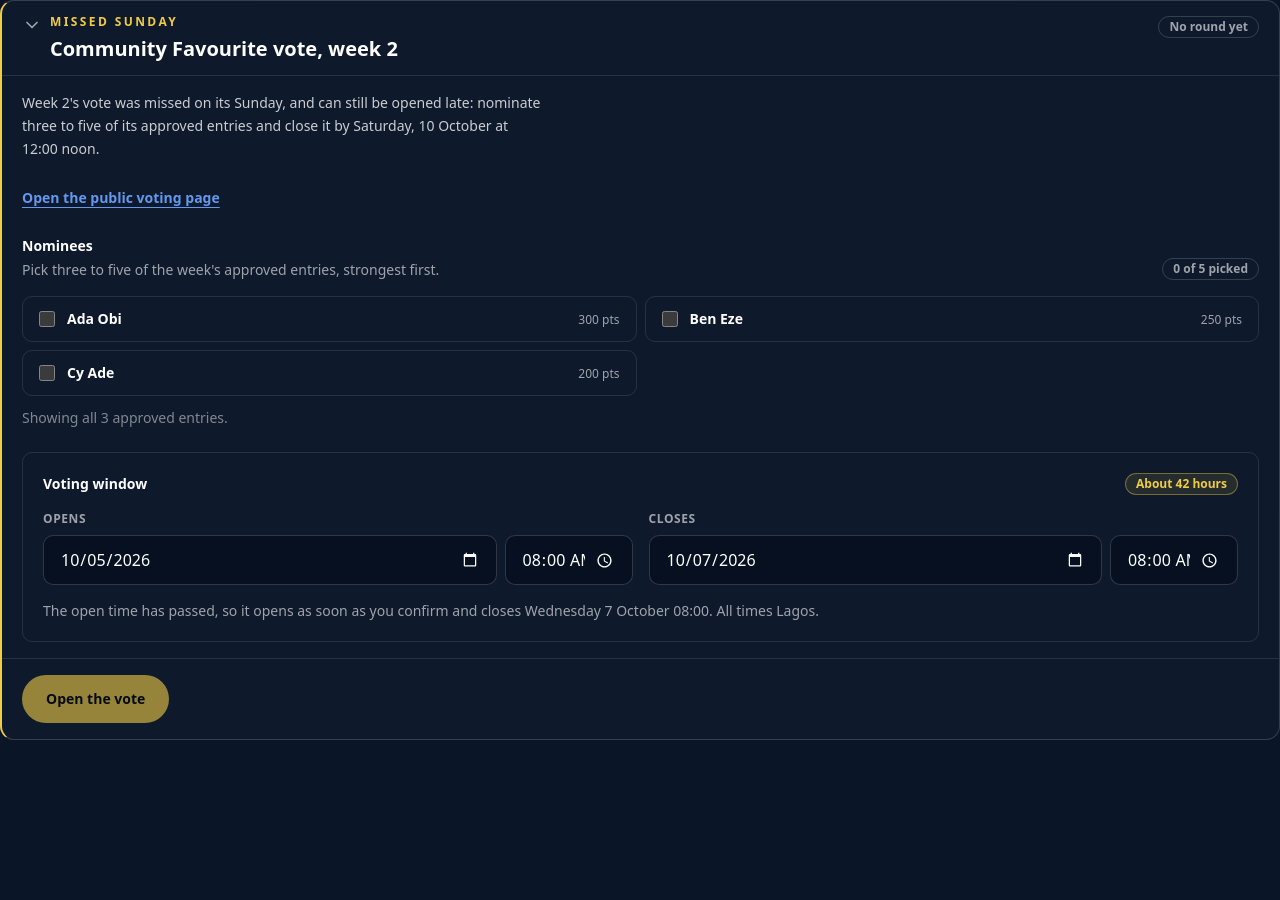
Test: a vote opened late, the Monday after › refuses a close after the next stage closes, before the round trip
Click the checkbox labelled "Ada Obi 300 pts".
click(47, 319)  # box [39,311,55,327]
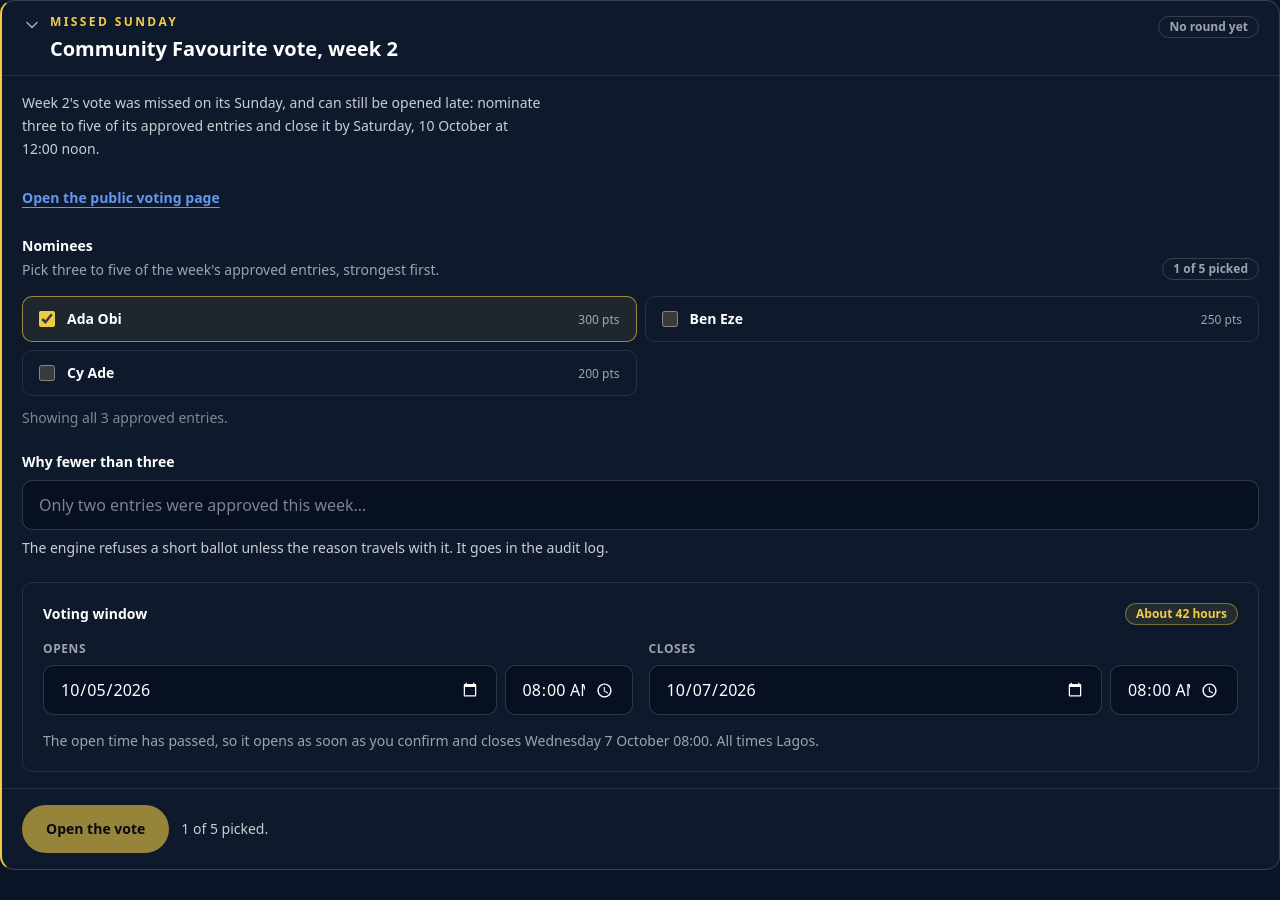
Click the checkbox labelled "Ben Eze 250 pts".
click(670, 319)  # box [662,311,678,327]
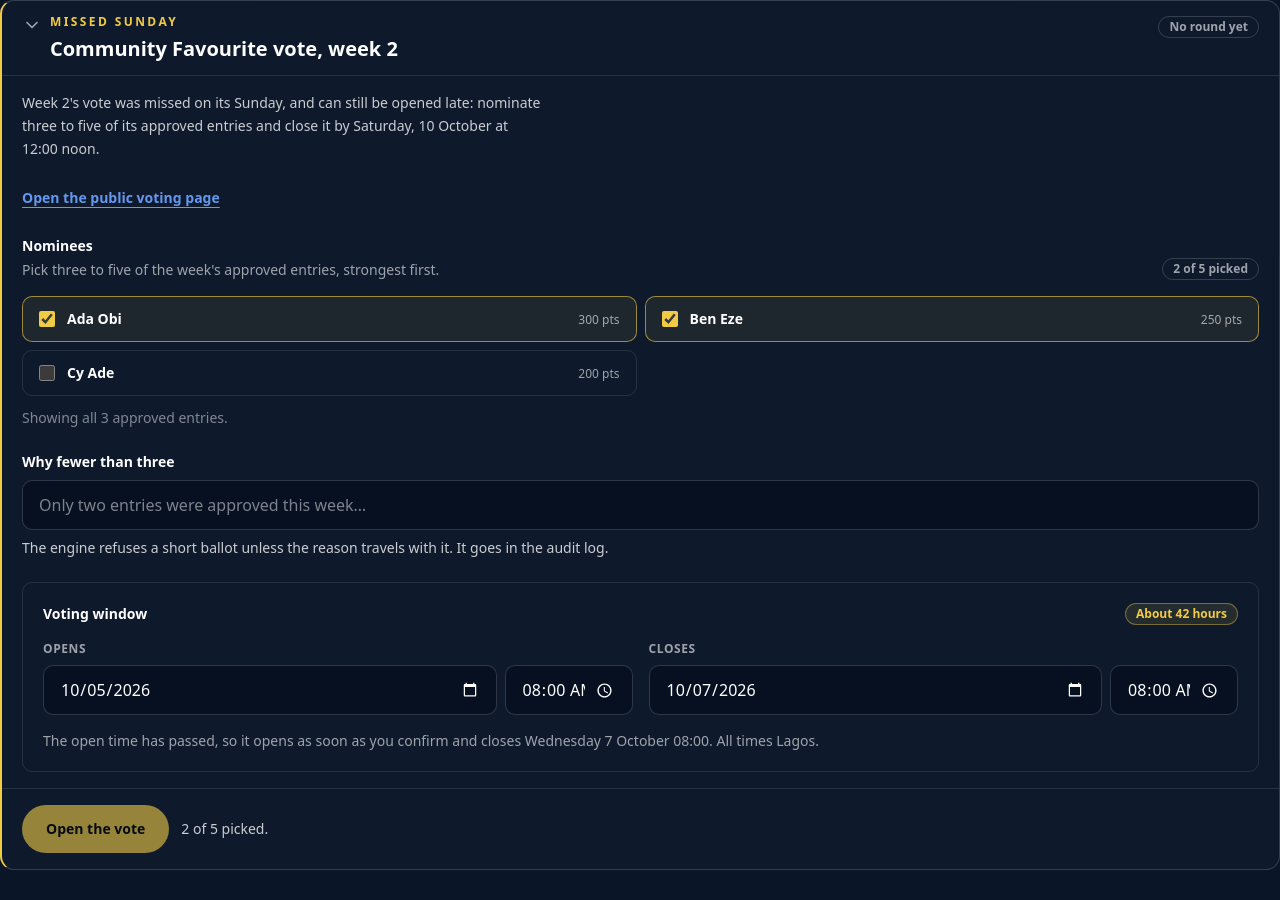
Click the checkbox labelled "Cy Ade 200 pts".
click(47, 373)  # box [39,365,55,381]
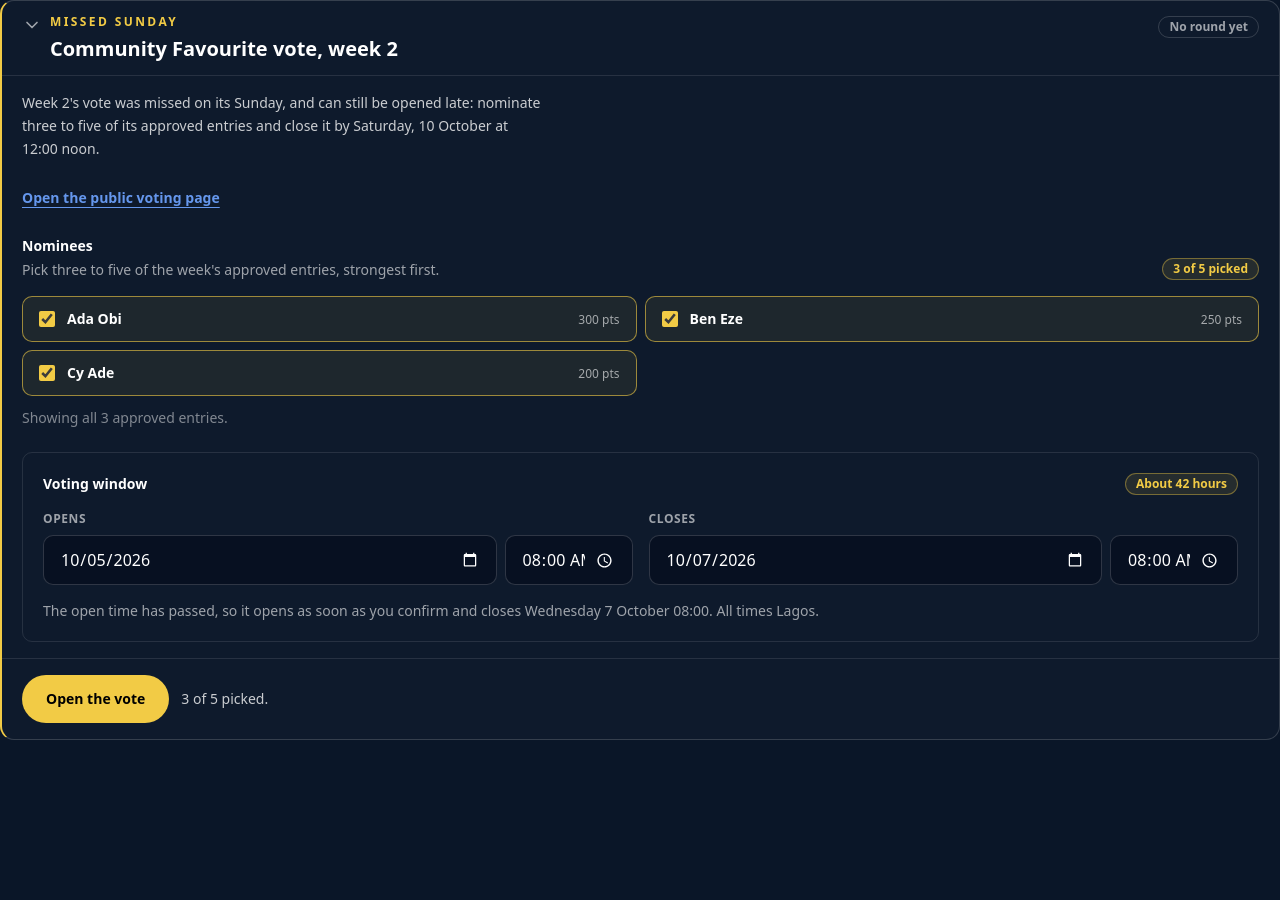
Type "2026-10-10" into the date field with id "closes-day".
click(875, 560); type("2026-10-10")  # box [648,535,1102,585]
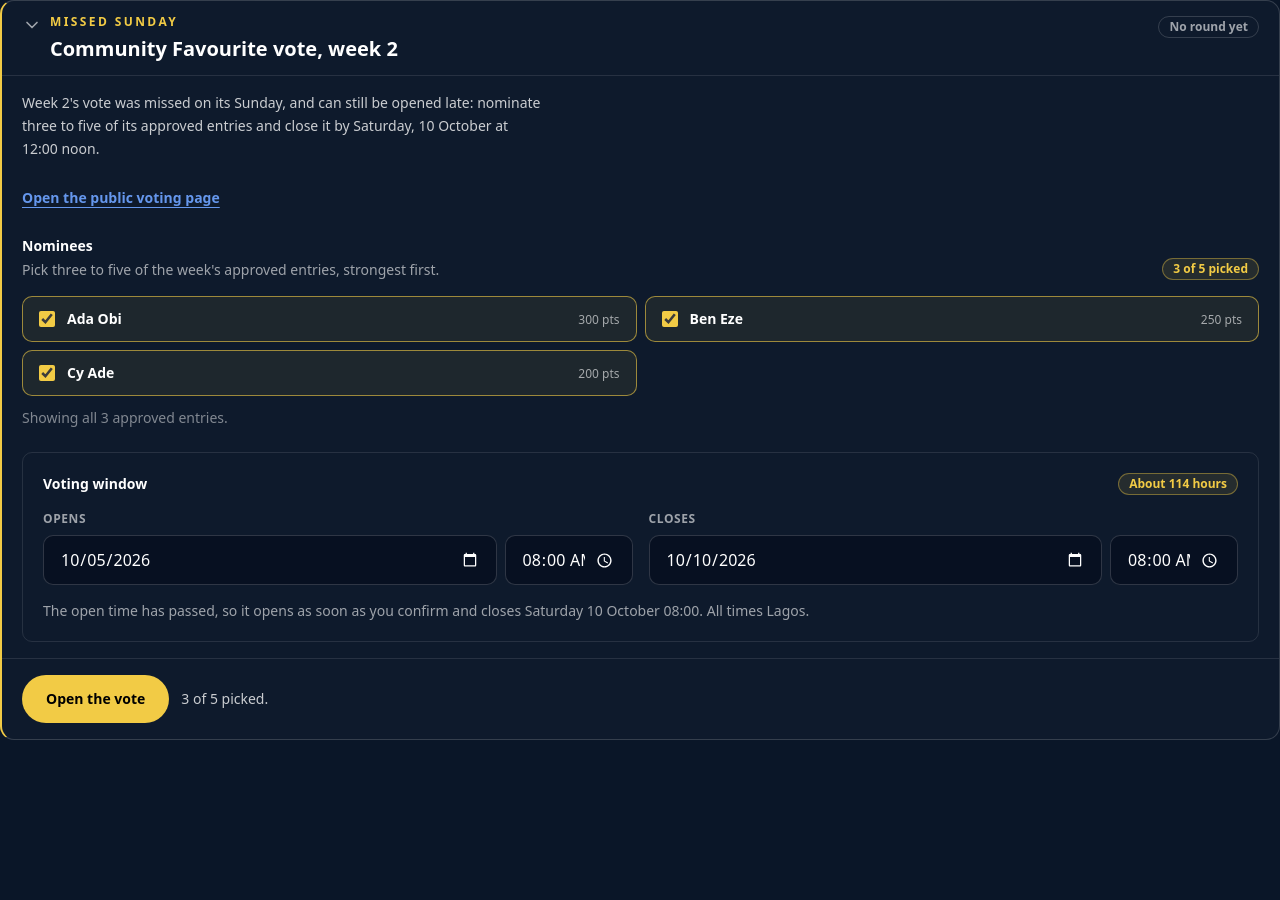
Replace the text in the time field with id "closes-time" with "12:30" at (1174, 560), box [1110,535,1238,585]
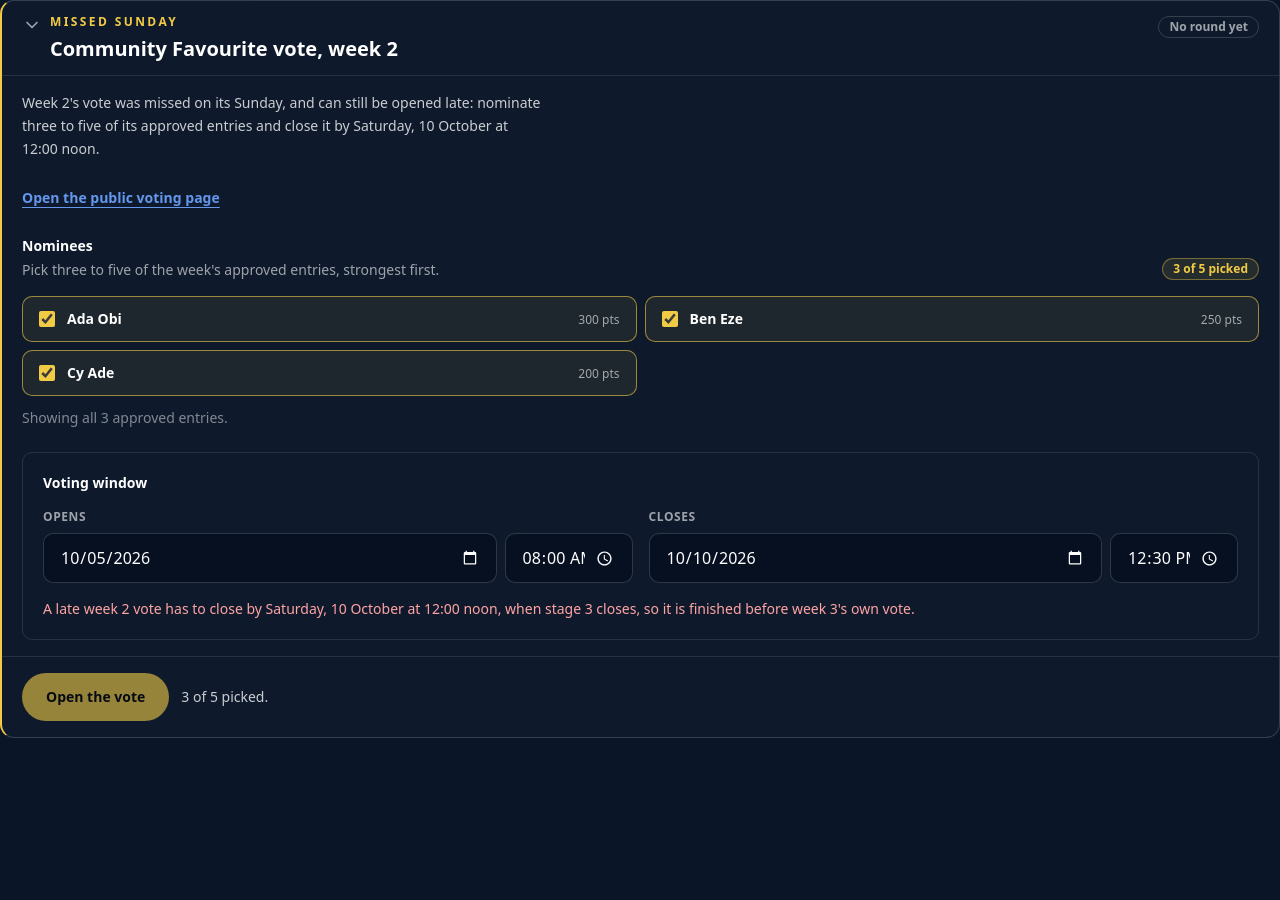
Now the text "A late week 2 vote has to close by Saturday, 10 October at 12:00 noon, when stage 3 closes, so it is finished before wee" is shown, box [43,599,915,618]
Now the button "Open the vote" is disabled, box [22,673,169,721]
Replace the text in the time field with id "closes-time" with "12:00" at (1174, 558), box [1110,533,1238,583]
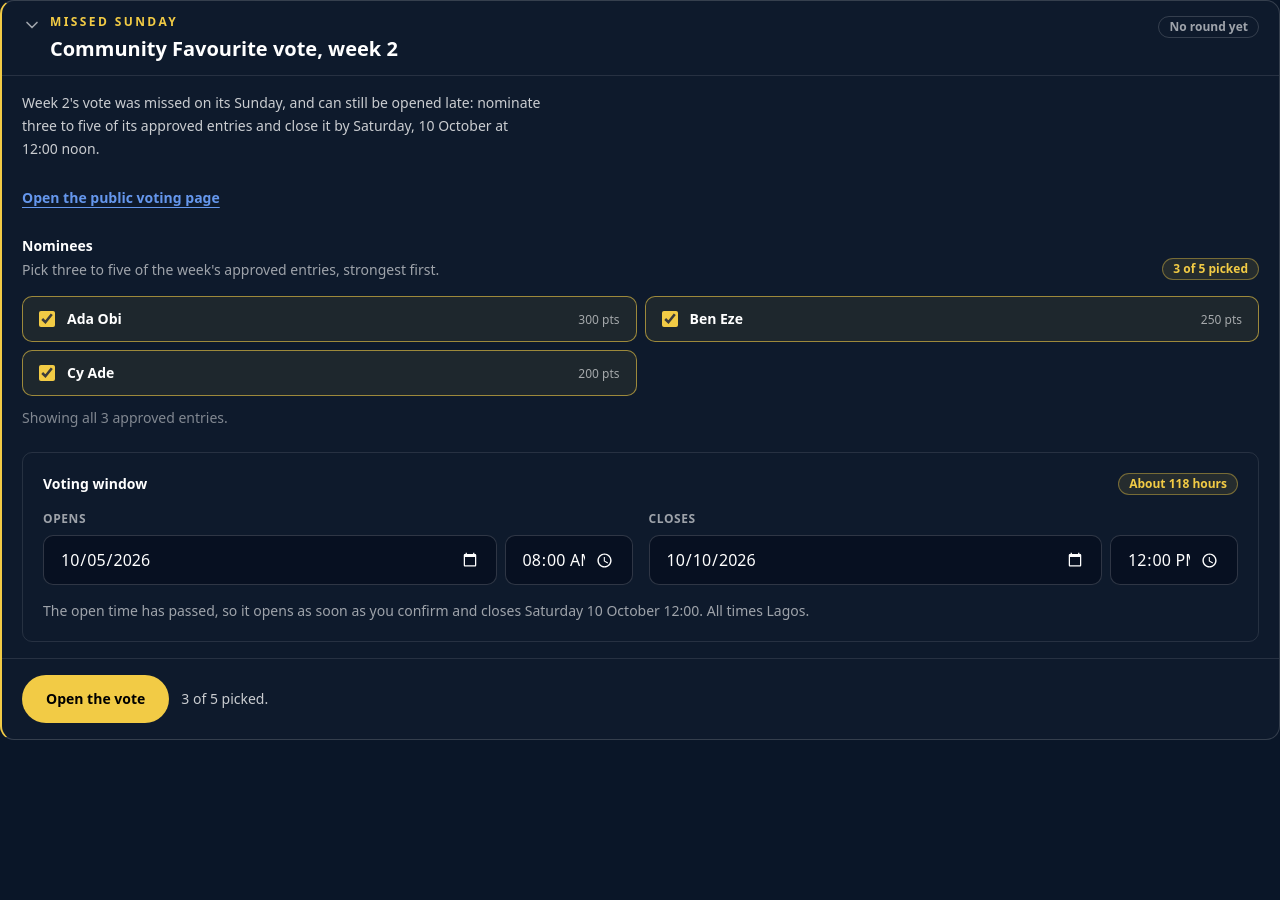
Now the button "Open the vote" is enabled, box [22,675,169,723]
